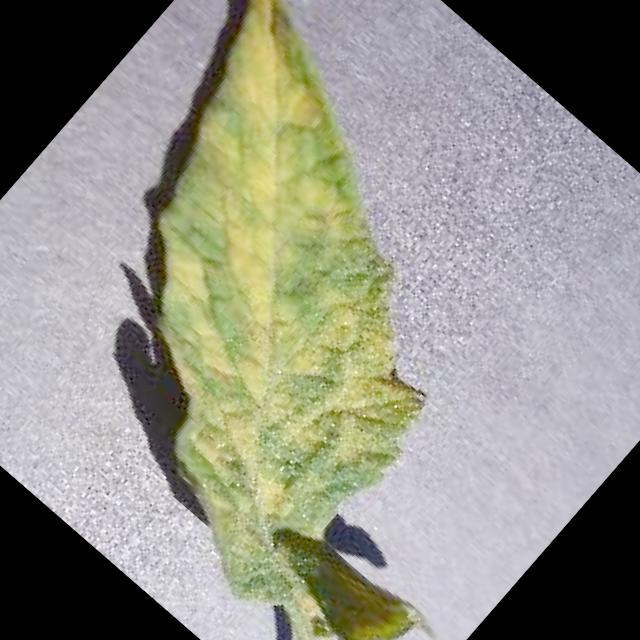Tomato mold leaf: (0, 0, 605, 622)
